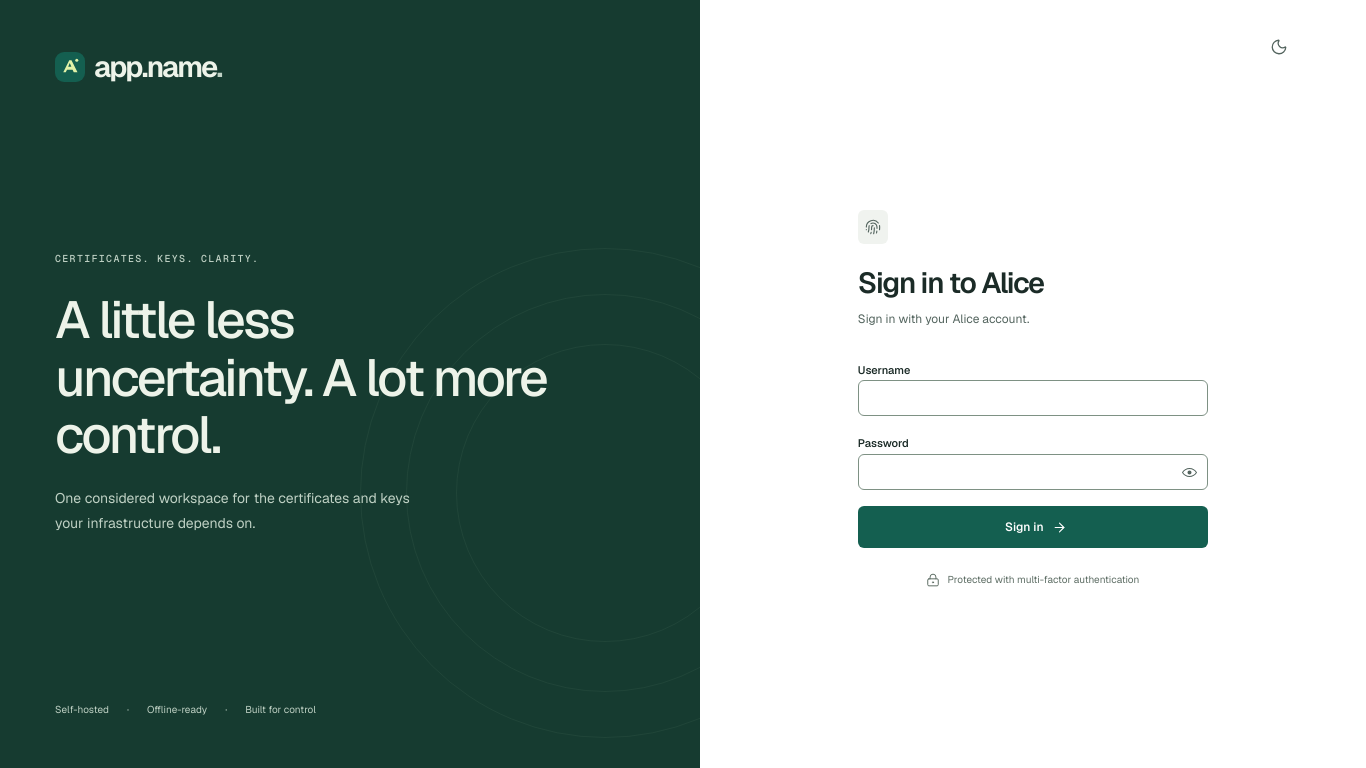
Test: sign-in page safety › clears the password after a failed attempt and keeps secrets out of storage and the URL
Type "nobody" into the field labelled "Username". click: (1033,398)
box: [858,380,1208,416]
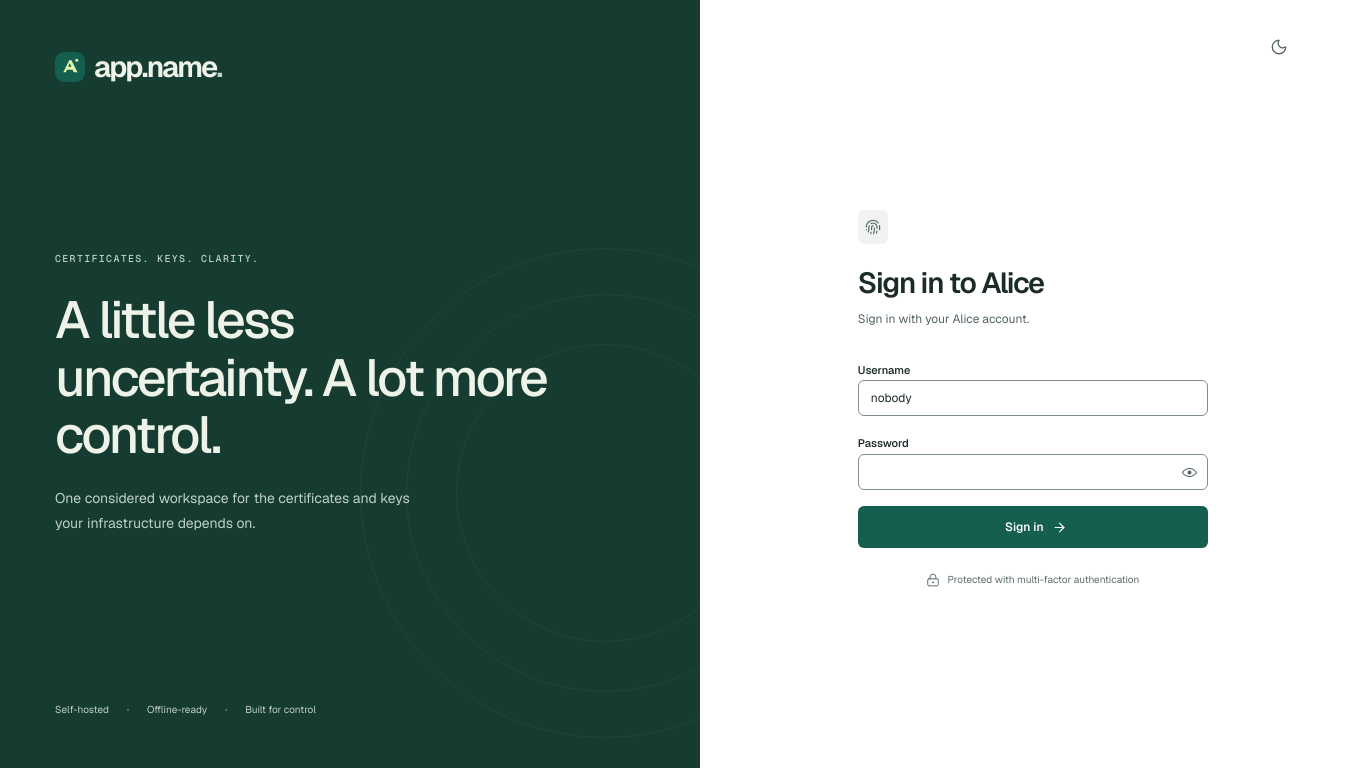
Type "wrong password!" into the password field labelled "Password". click: (1033,472)
box: [859,455,1207,489]
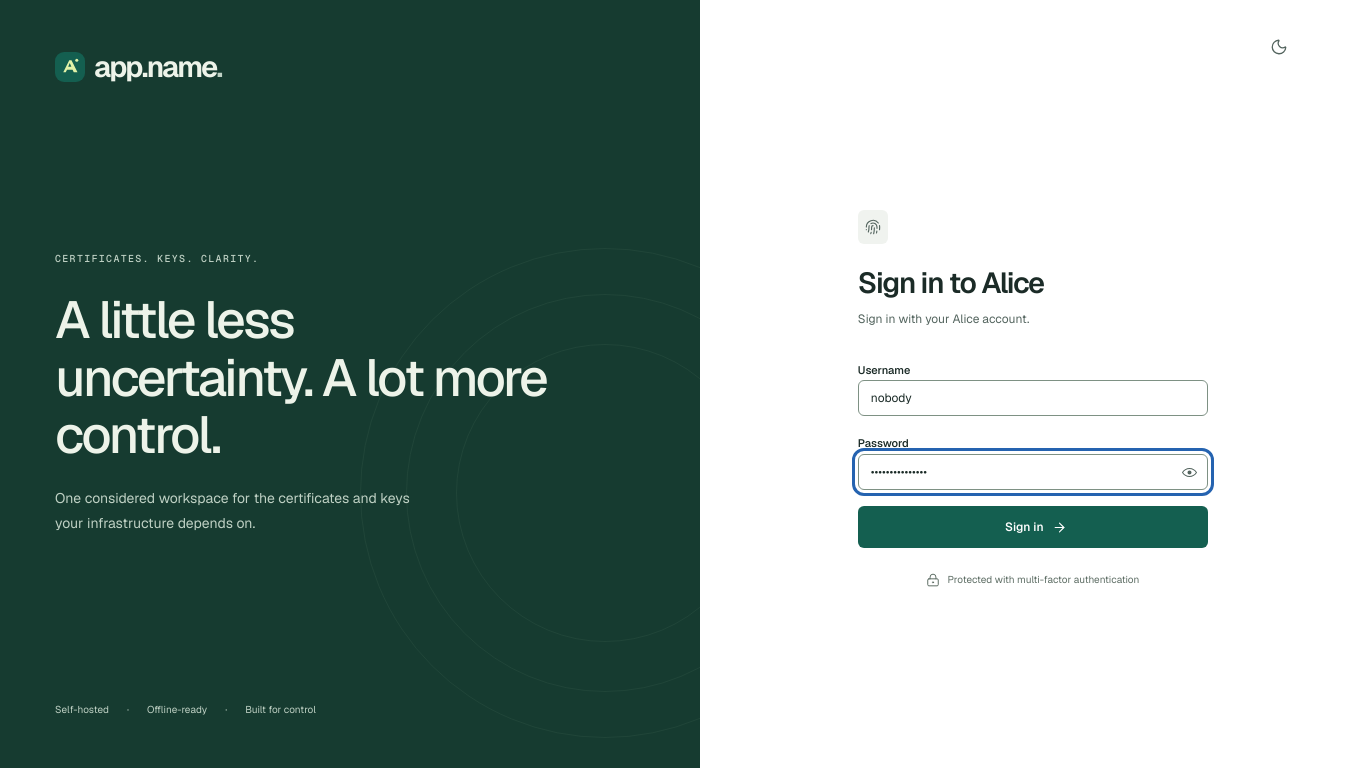
Click the button "Sign in". click: (1033,527)
box: [858,506,1208,548]
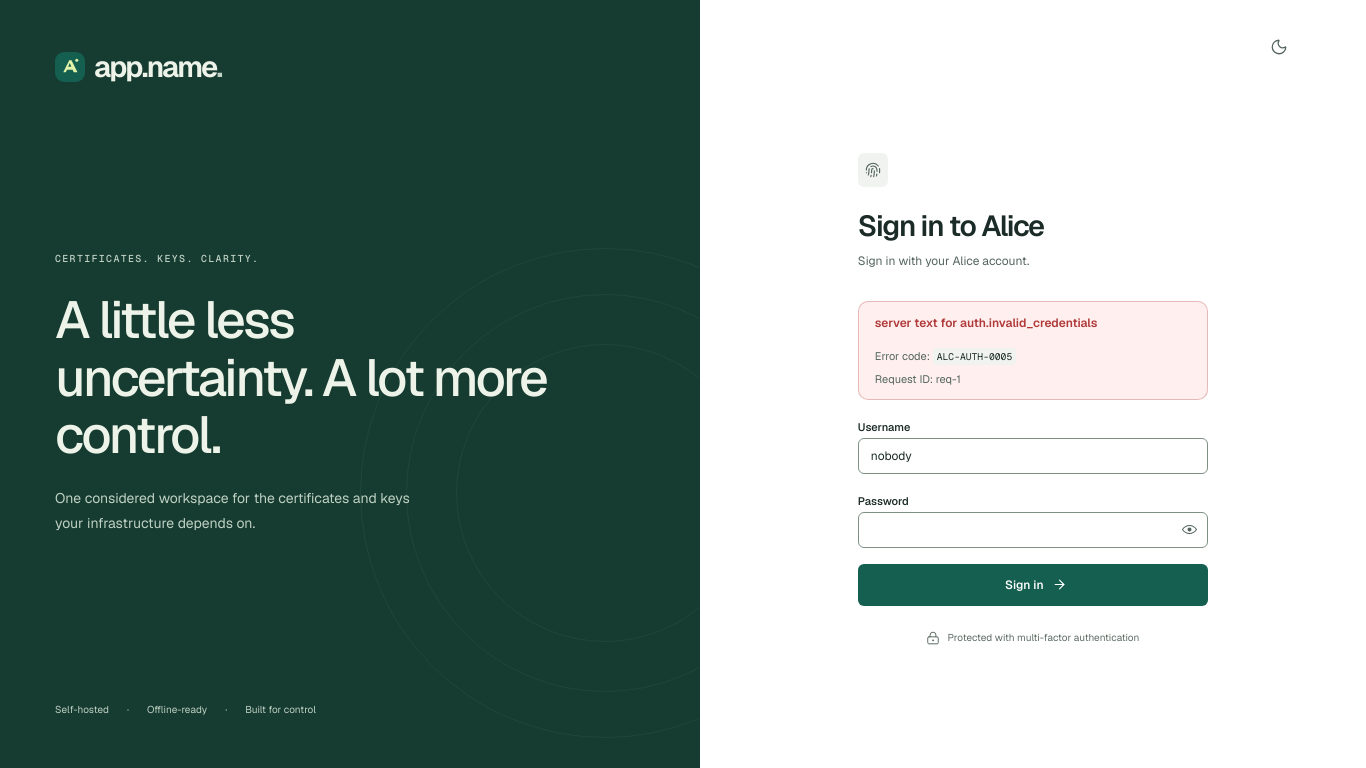
Check: the message is shown, box [858,301,1208,400]
Check: the password field labelled "Password" is empty, box [859,513,1207,547]
